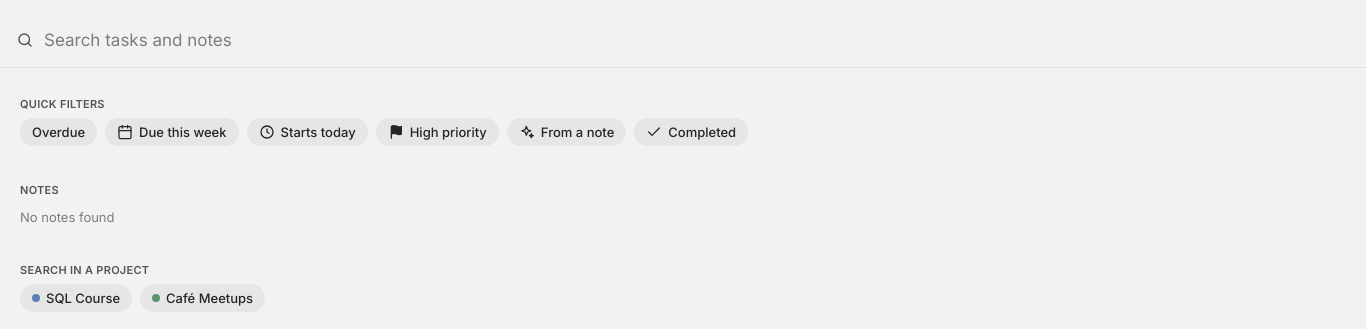
Test: SearchPanel & SearchPopup › does not allow a slow old answer to replace a newer query
The image size is (1366, 329).
Note: Type "first"
Type "first" into the dropdown at (697, 40), box [44, 12, 1350, 67]
Wait 250 ms
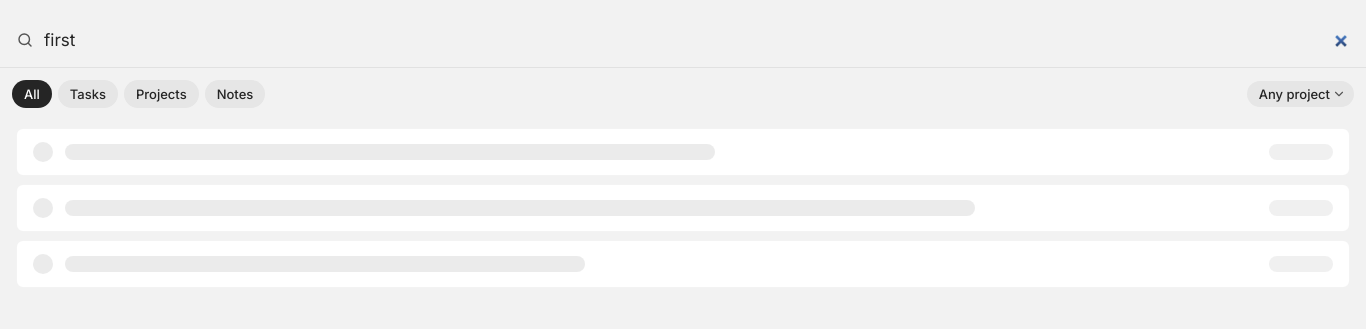
Note: Type "second" while first is still pending
Replace the text in the dropdown with "second" at (697, 40), box [44, 12, 1350, 67]
Wait 650 ms
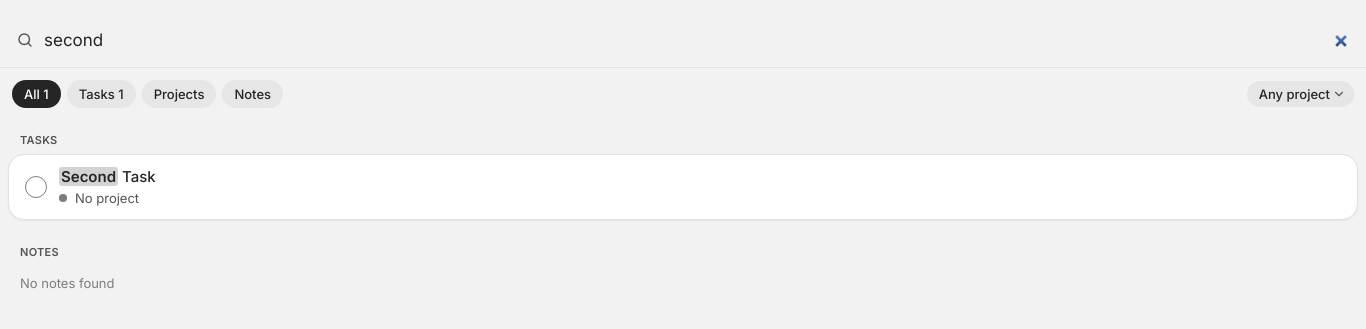
Check: the option "Second Task No project" is shown, box [8, 154, 1358, 220]
